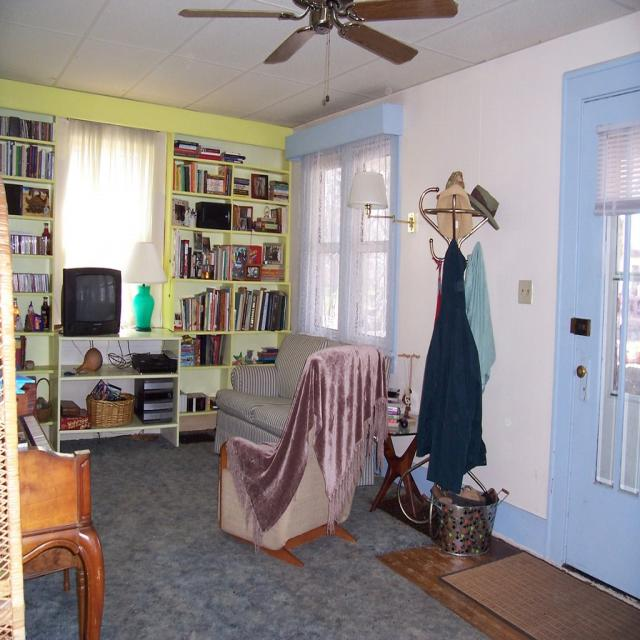Bulb: (175, 0, 458, 103)
